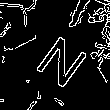N_NE: (28, 23, 92, 86)
